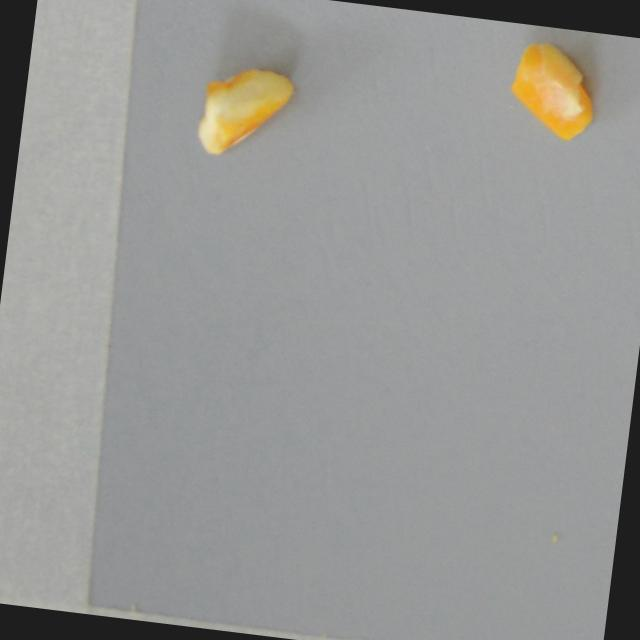dañado: (189, 54, 302, 167), (497, 34, 606, 145)
